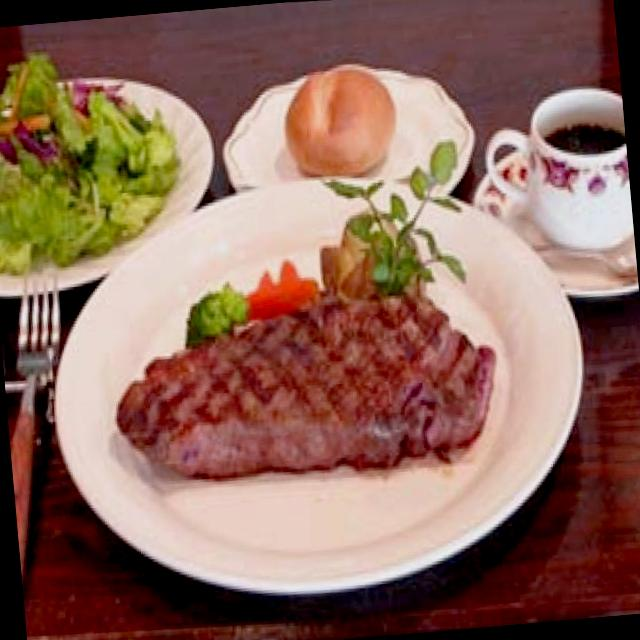Beef Steak: (103, 268, 510, 498)
